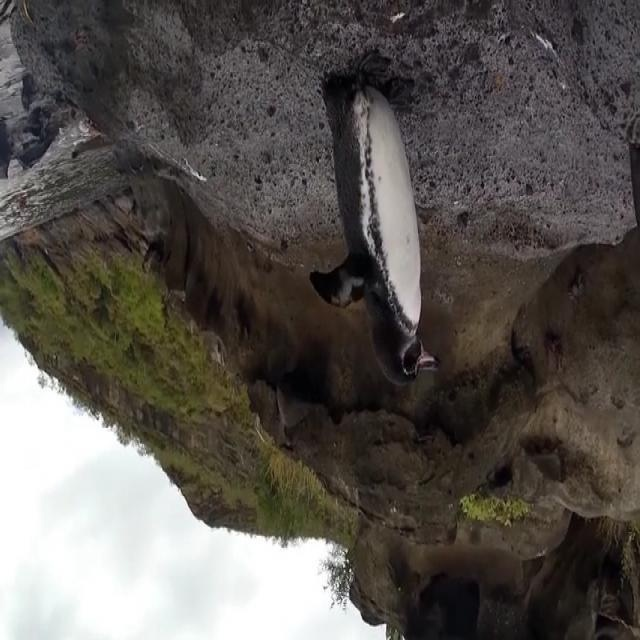penguin: (312, 49, 441, 385)
